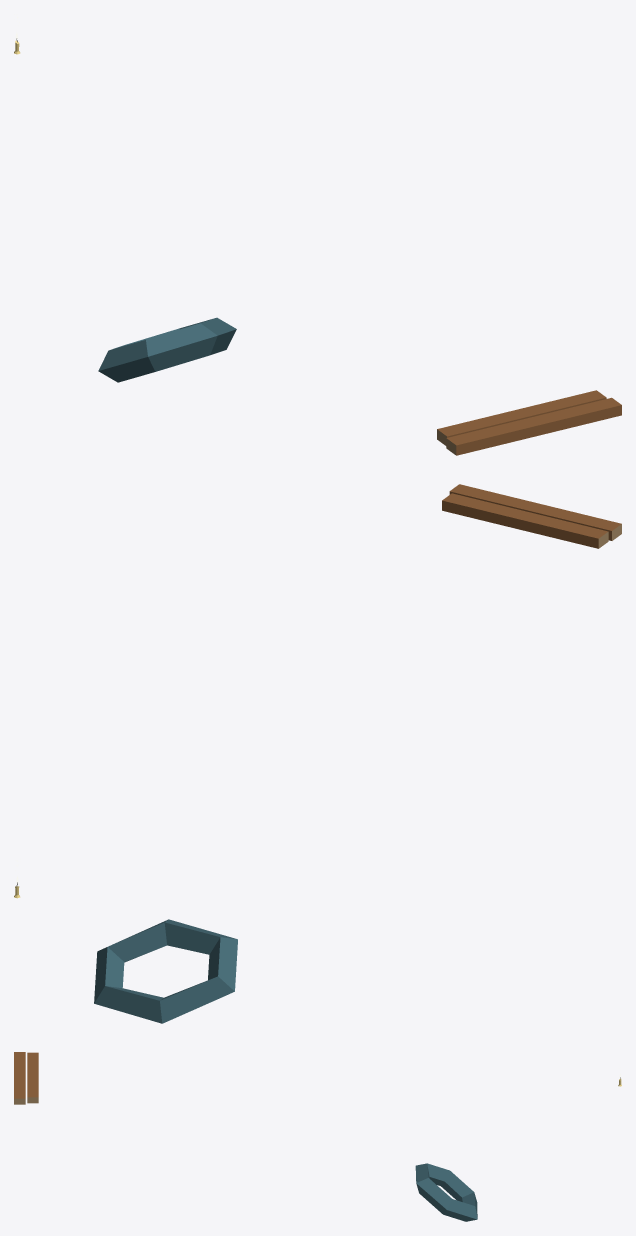
3 views of the same model, one above another, from view 1: azimuth 30°, elevation 25°; view 2: azimuth 150°, elevation 25°; view 3: azimuth 270°, elevation 25° (orthographic). The views are drawn at different scales.
Parts seen in each view (by area): view 1: Box15362_brown_0, Torus064_metal_0; view 2: Torus064_metal_0, Box15362_brown_0; view 3: Torus064_metal_0, Box15362_brown_0.
Part boxes in pixels (bbox=[...]): Box15362_brown_0: bbox=[437, 390, 621, 455]; Torus064_metal_0: bbox=[98, 317, 236, 382]; Torus064_metal_0: bbox=[94, 919, 237, 1023]; Box15362_brown_0: bbox=[442, 484, 621, 548]; Torus064_metal_0: bbox=[415, 1163, 477, 1221]; Box15362_brown_0: bbox=[14, 1052, 38, 1098].
Size of the model in its own units: 456 by 684 by 2522.
